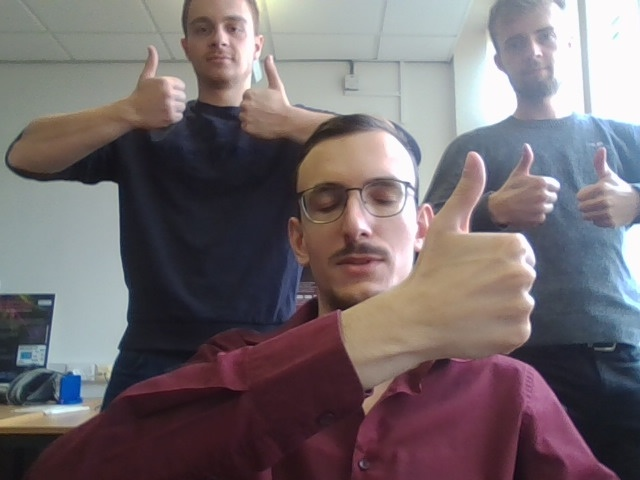thumbup: (412, 151, 534, 354), (492, 144, 559, 233), (234, 54, 291, 141), (573, 148, 631, 229), (134, 45, 186, 128)
